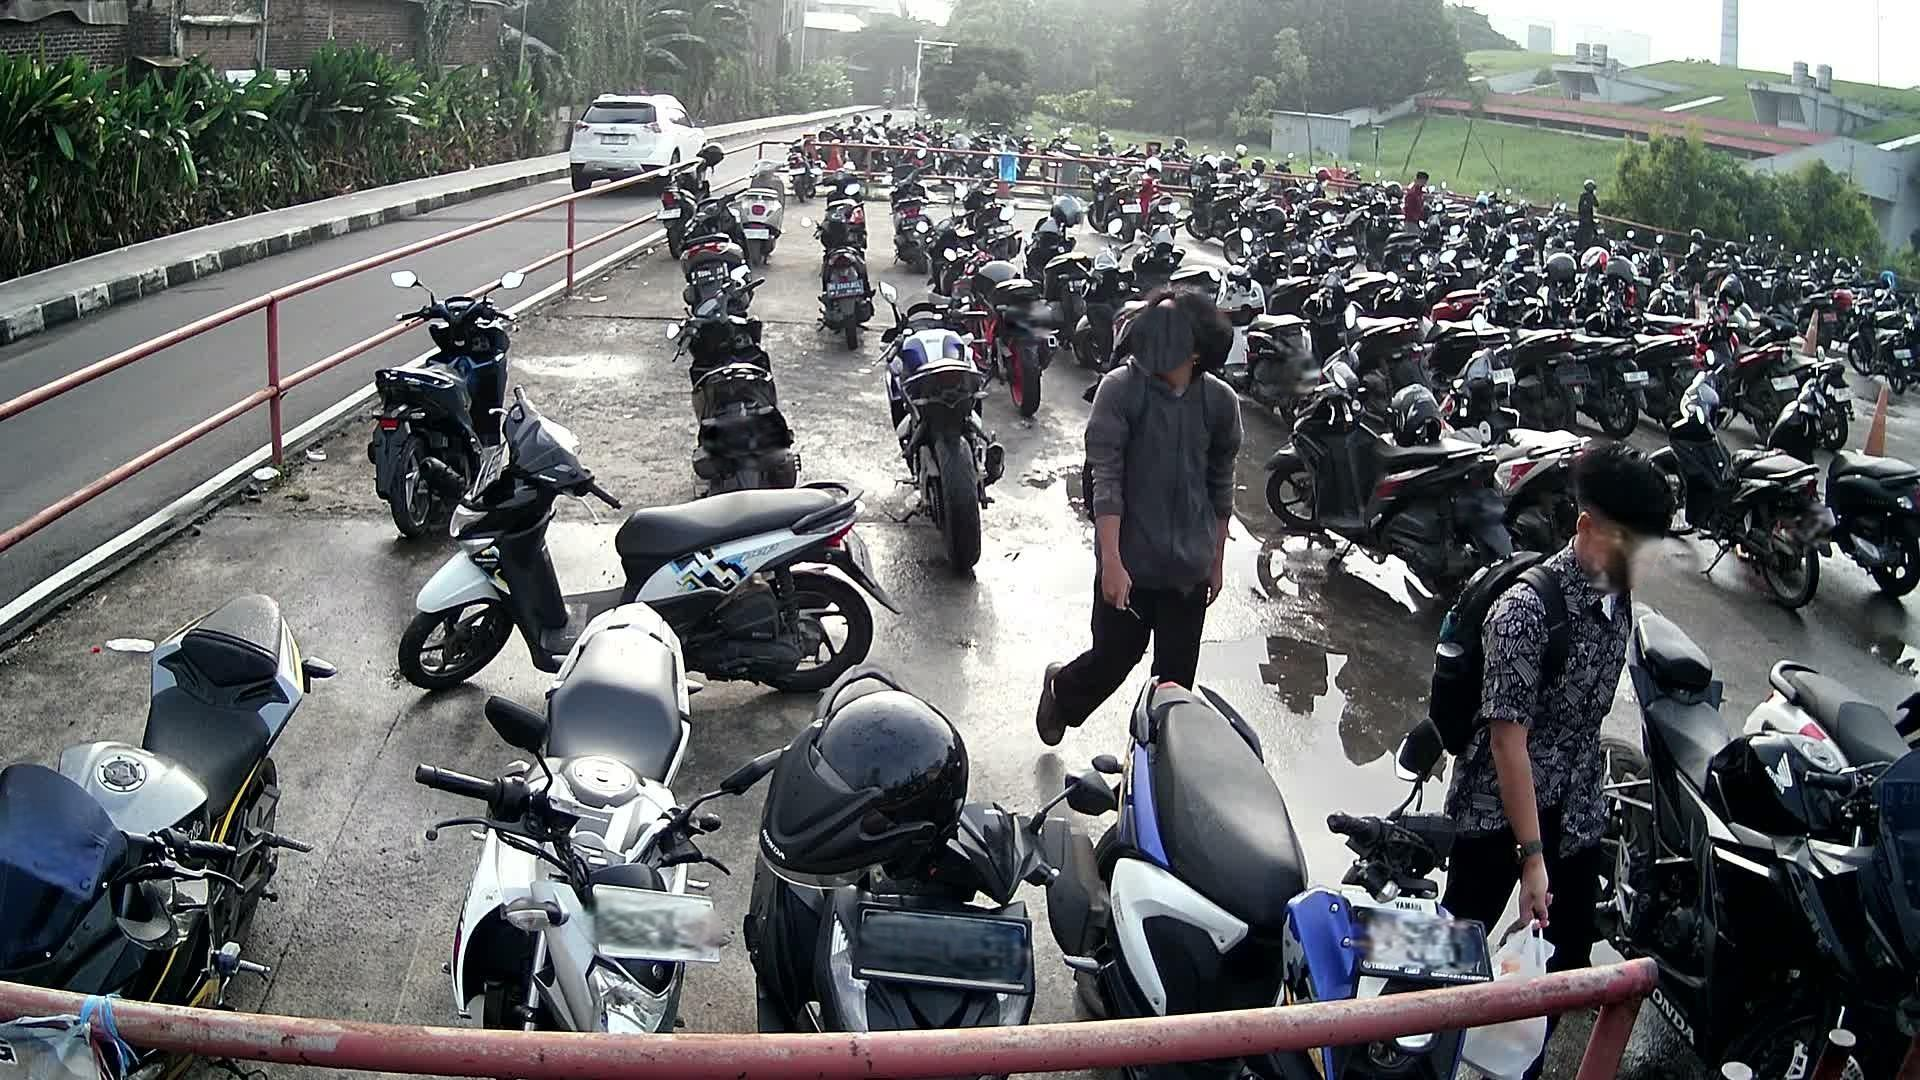motorcycle: (1044, 675, 1497, 1080), (0, 595, 336, 1080), (398, 390, 901, 695), (418, 604, 727, 1080), (1631, 603, 1920, 1080), (748, 671, 1068, 1080), (1269, 356, 1513, 604), (1658, 349, 1825, 609), (872, 281, 1021, 572), (367, 269, 521, 538), (667, 269, 807, 516), (1776, 376, 1920, 592), (1745, 655, 1920, 795), (1447, 349, 1589, 518)
